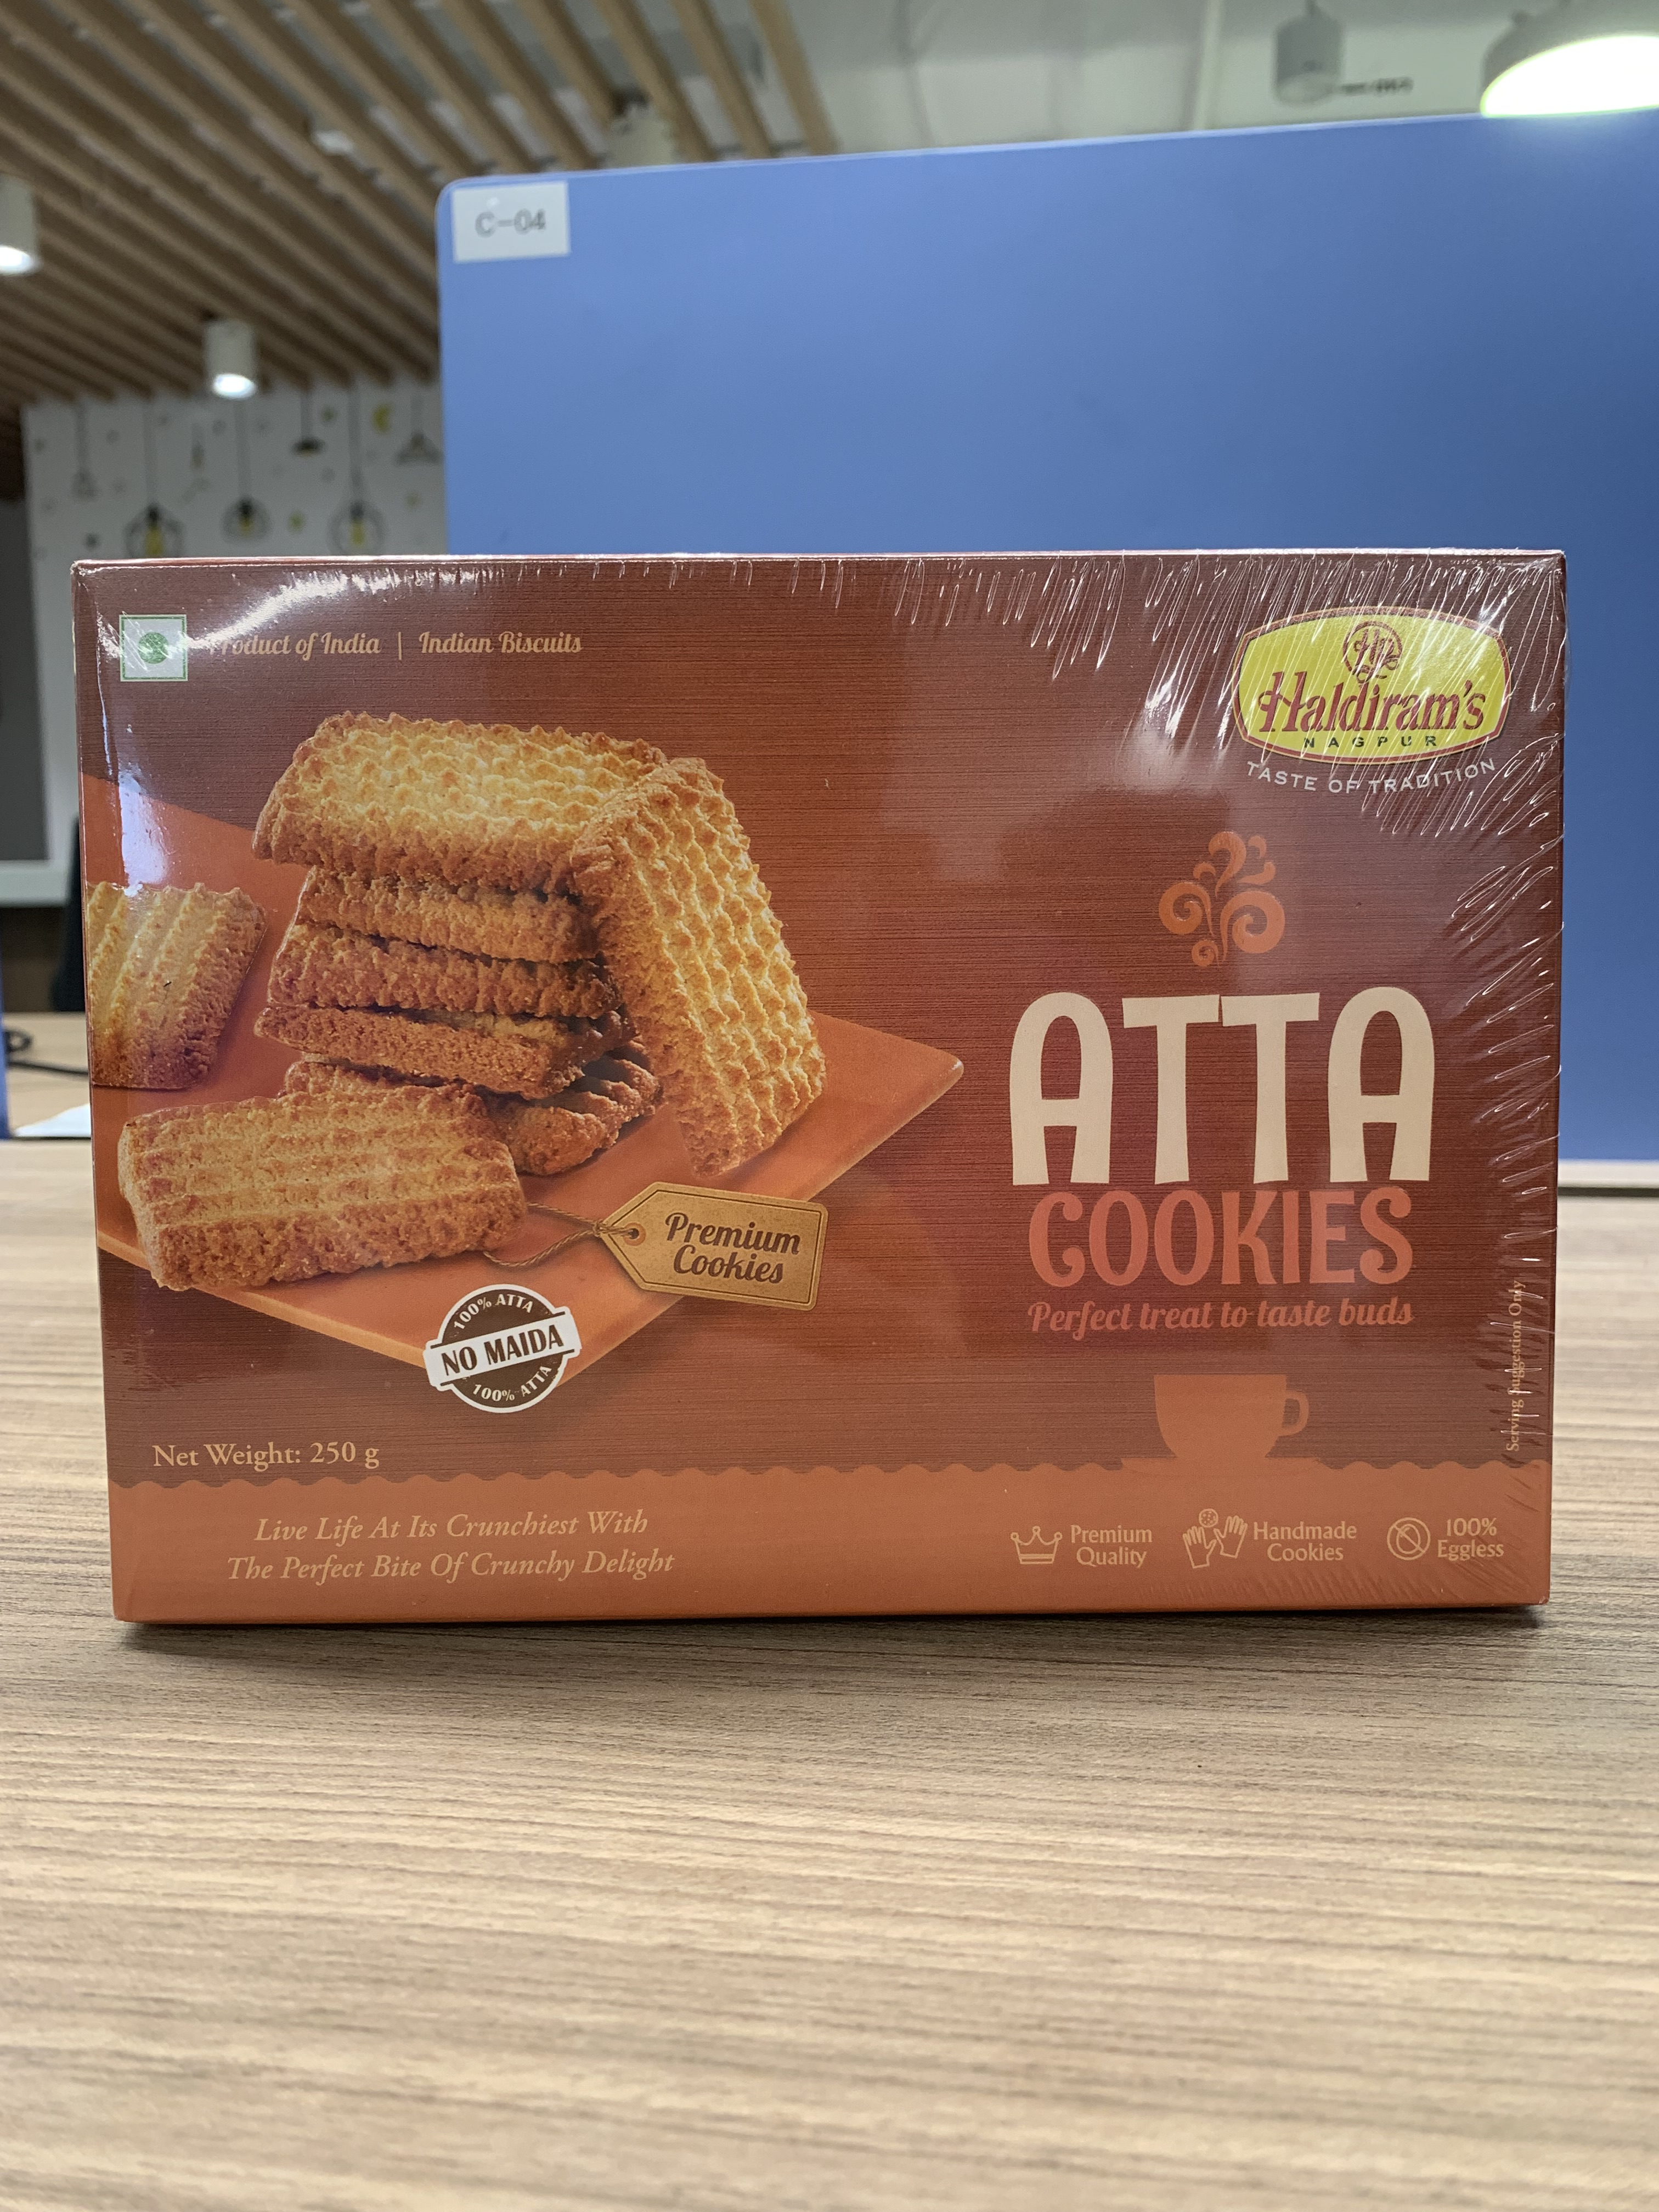cookies: (59, 538, 1572, 1642)
